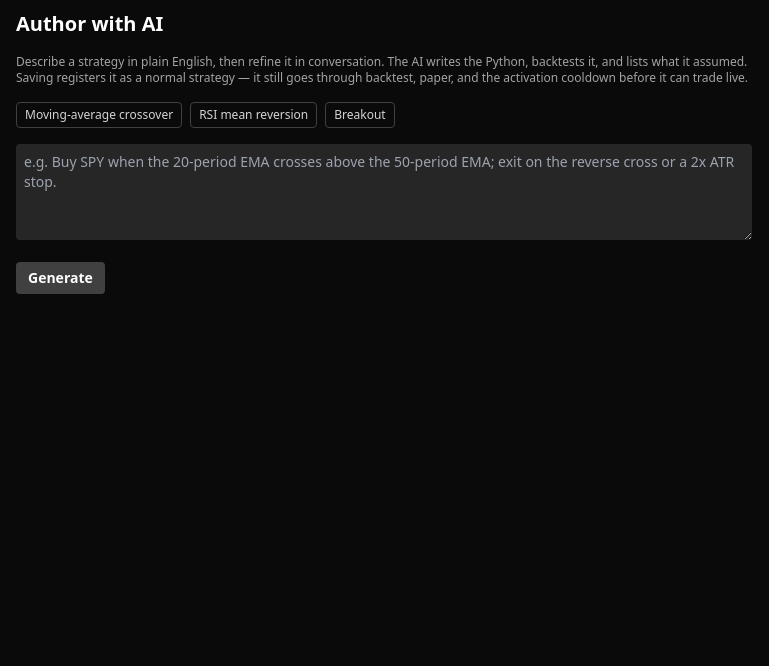
Test case: AuthorWithAI › generates and shows code + backtest + assumptions
The width and height of the screenshot is (769, 666).
Replace the text in the text box with placeholder "Buy SPY when" with "rsi mean reversion" at (384, 192), box [16, 144, 752, 240]
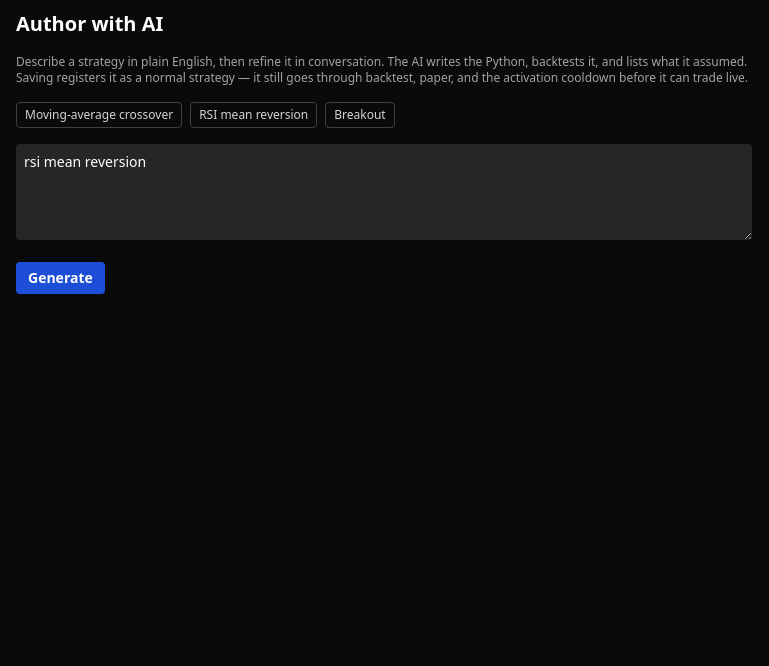
Click the button "Generate".
click(60, 278)  # box [16, 262, 105, 294]
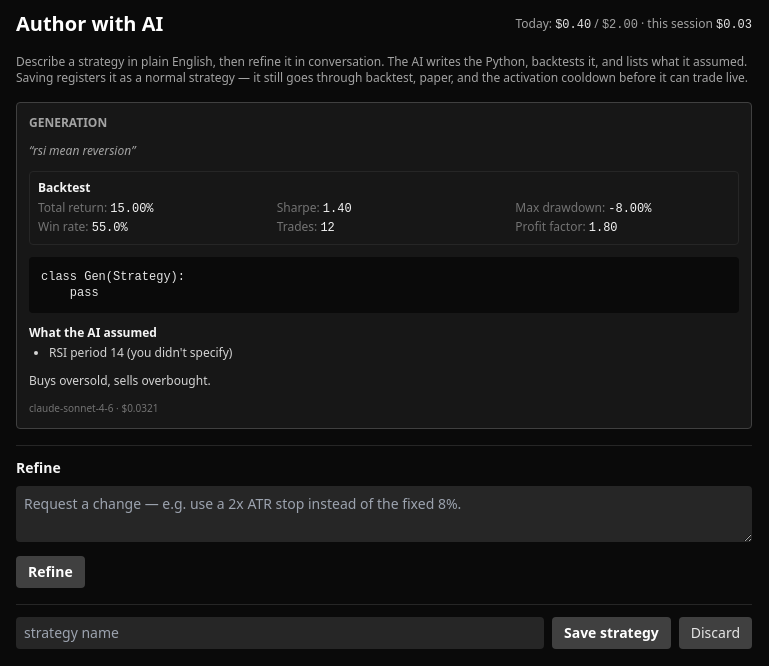
Check: the text "class Gen(Strategy): pass" is shown, box [41, 270, 185, 300]
Check: the list item "RSI period 14 (you didn't specify)" is shown, box [49, 344, 232, 361]
Check: the text "Sharpe:" is shown, box [277, 199, 323, 216]
